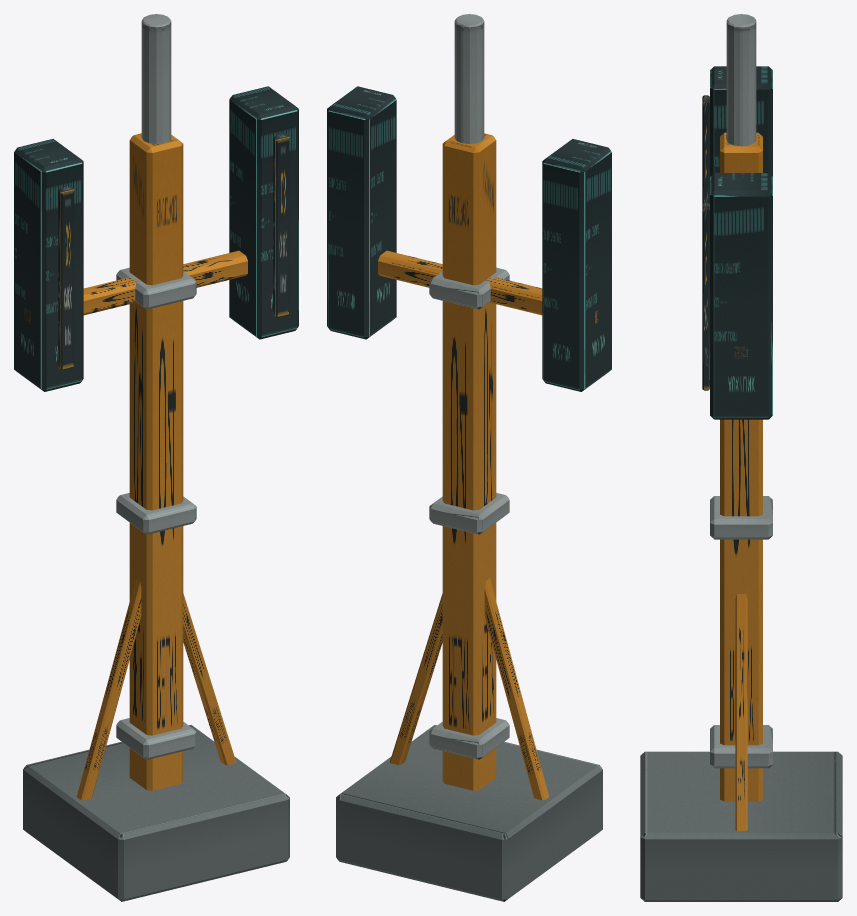
Rendered from relay_mast_LOD1.obj.
3 views of the same model, side by side, from view 1: azimuth 30°, elevation 25°; view 2: azimuth 150°, elevation 25°; view 3: azimuth 270°, elevation 25° (orthographic).
Parts seen in each view (by area): view 1: L02_relay_mast_LOD1; view 2: L02_relay_mast_LOD1; view 3: L02_relay_mast_LOD1.
Part boxes in pixels (x1,y1,x2,y2): L02_relay_mast_LOD1: [14, 14, 298, 901]; L02_relay_mast_LOD1: [327, 14, 611, 901]; L02_relay_mast_LOD1: [640, 14, 842, 901].
Size of the model in its own units: 2.4 by 7.35 by 1.6.
Materials: 1 (1 with a texture image).
